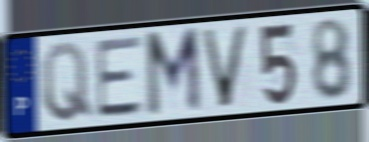5: (258, 19, 299, 107)
8: (309, 16, 353, 102)
E: (94, 32, 146, 121)
M: (143, 24, 204, 122)
Q: (40, 39, 95, 126)
V: (198, 24, 252, 112)
